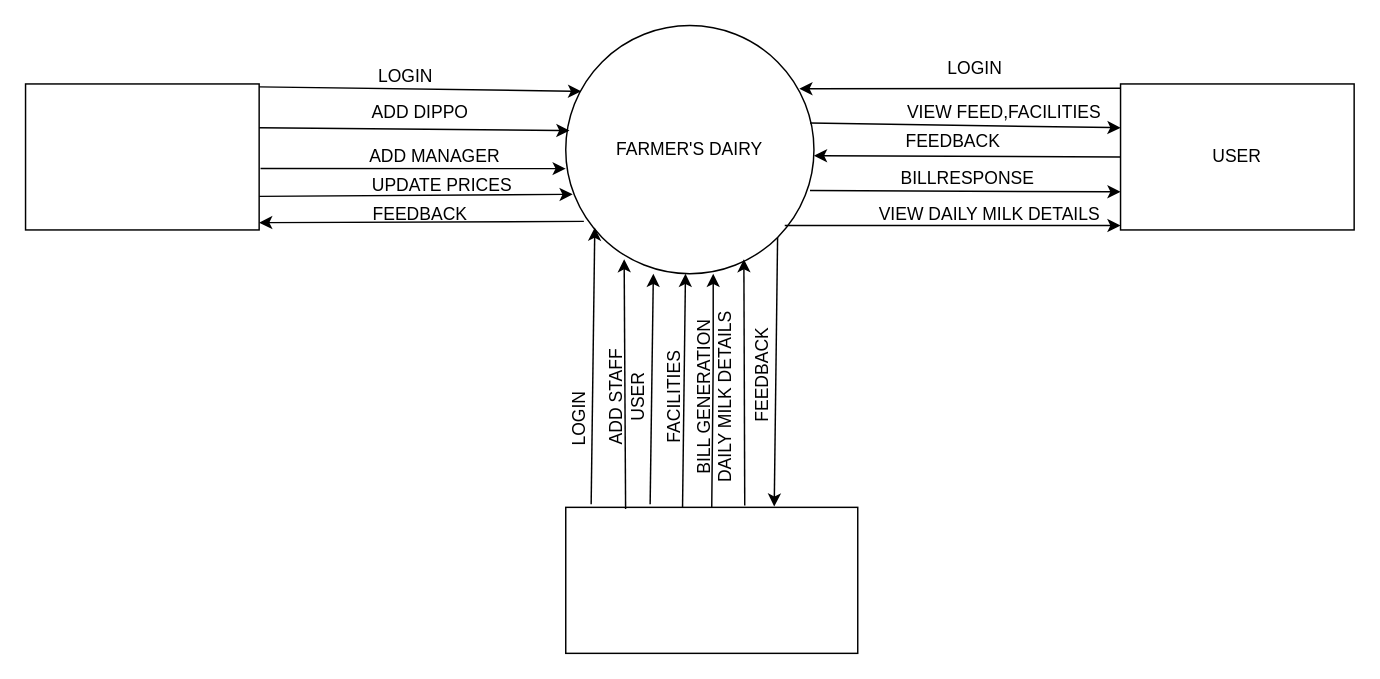
Some shapes in this 1380 by 679 pixel diagram are drawn without their labels. Each missing label, with the centre of its shape:
ADMIN: point 141,156
DIPPO: point 711,579
